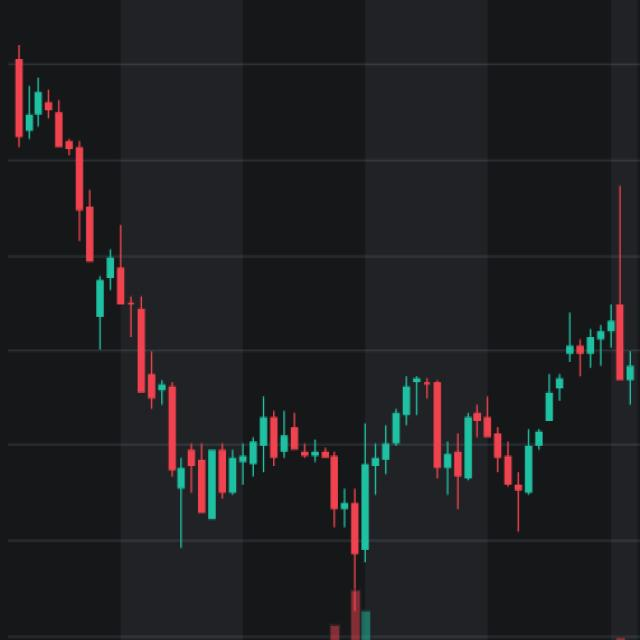Resistance-Emerging: (176, 355, 631, 573)
